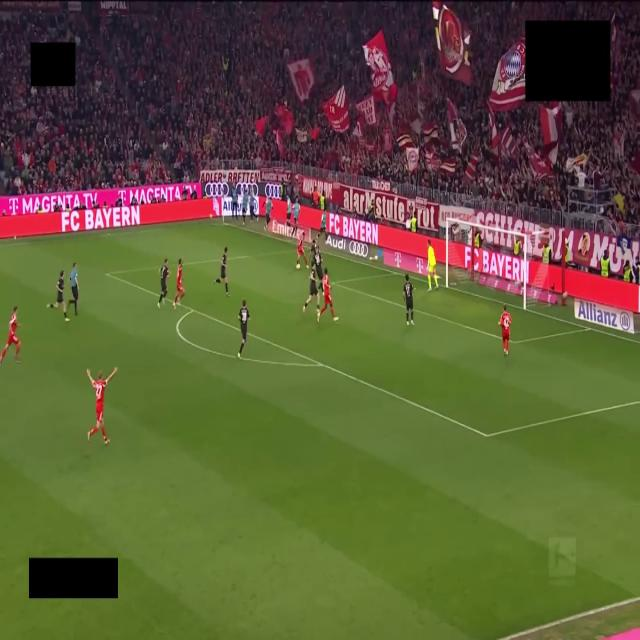ball: (296, 264, 300, 269)
player: (87, 368, 117, 444), (0, 306, 20, 365), (317, 269, 338, 321), (48, 271, 69, 321), (303, 264, 319, 312), (238, 300, 250, 359), (215, 248, 229, 296), (310, 240, 323, 290), (499, 305, 511, 355), (173, 258, 184, 308), (158, 258, 169, 307), (403, 274, 413, 325), (428, 240, 438, 290), (296, 231, 308, 269), (309, 240, 317, 266)
referee: (68, 263, 78, 315)
